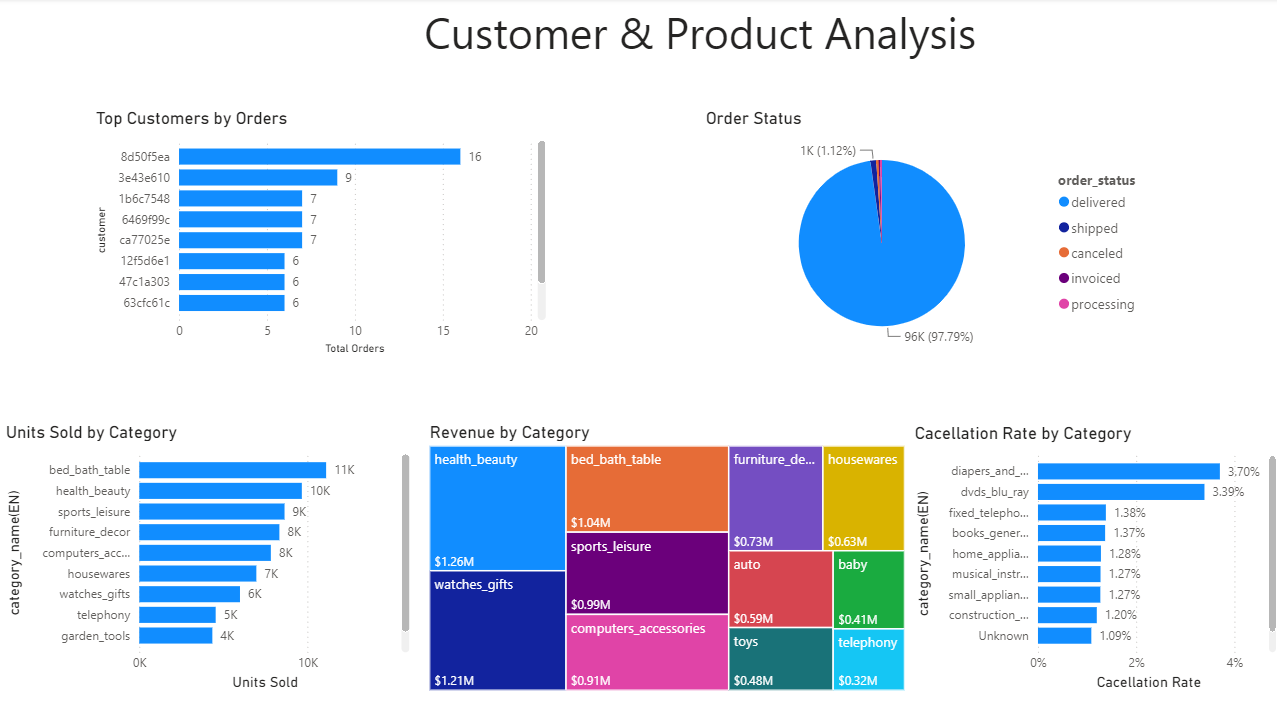

The dashboard page shown, as its layout file describes it:
{"tool":"powerbi","page":{"name":"Operations Analysis","canvas":[1280,720],"ordinal":1},"visuals":[{"type":"clusteredBarChart","title":"Units Sold by Category","fields":{"Category":["dim_product.category_name(EN)"],"Y":["all_measures.Units Sold"]},"box":[5,421.7,411.8,272.4],"z":0},{"type":"clusteredBarChart","title":"Top Customers by Orders","fields":{"Category":["dim_customer.customer"],"Y":["all_measures.Total Orders"]},"box":[94.5,109.5,457.8,250],"z":1000},{"type":"pieChart","title":"Order Status","fields":{"Category":["fact_sales.order_status"],"Y":["all_measures.Total Orders"]},"box":[701.6,109.5,455.3,250],"z":2000},{"type":"treemap","title":"Revenue by Category","fields":{"Group":["dim_product.category_name(EN)"],"Values":["all_measures.Total Sales"]},"box":[426.7,421.7,482.7,272.4],"z":3000},{"type":"barChart","title":"Cacellation Rate by Category","fields":{"Category":["dim_product.category_name(EN)"],"Y":["all_measures.Cacellation Rate"]},"box":[909.3,422.9,370.7,271.2],"z":4000},{"type":"textbox","box":[413.9,0,573.2,83.9],"z":5000}]}

Visuals, with their boxes in screenshot pixels (x1, y1, x2, y2), scaled from the page's 1280x720 canvas onto the 1277x720 screenshot:
"Units Sold by Category" clusteredBarChart: l=5, t=422, r=416, b=694
"Top Customers by Orders" clusteredBarChart: l=94, t=110, r=551, b=360
"Order Status" pieChart: l=700, t=110, r=1154, b=360
"Revenue by Category" treemap: l=426, t=422, r=907, b=694
"Cacellation Rate by Category" barChart: l=907, t=423, r=1276, b=694
textbox: l=413, t=0, r=985, b=84
